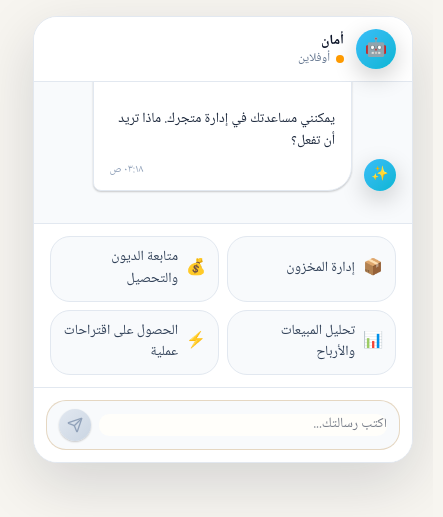
Test case: UnifiedAIChat offline fallback › responds politely when asked how the assistant is doing
(page scrolled)
Type "كيف حالك؟" into the field with placeholder "اكتب رسالتك...". click: (243,425)
box: top-left (99, 414), bottom-right (387, 436)
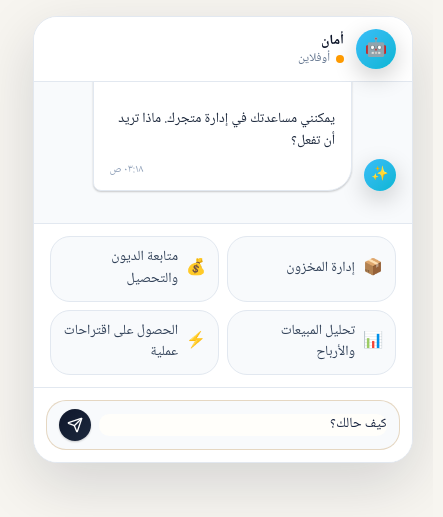
Click the button named "إرسال". click: (75,425)
box: top-left (59, 409), bottom-right (91, 441)
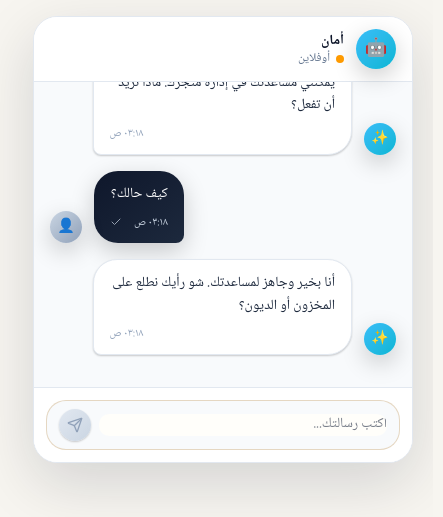
expect the text "أنا بخير وجاهز لمساعدتك. شو رأيك نطلع على المخزون أو الديون؟" is shown: met, box top-left (110, 272), bottom-right (335, 317)
